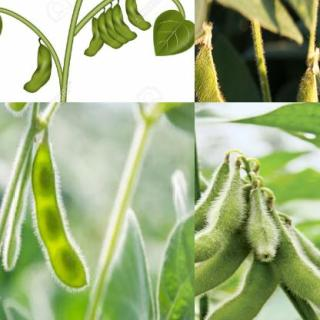soya: (32, 144, 90, 290), (195, 172, 246, 265), (202, 263, 280, 319), (195, 241, 252, 308), (194, 50, 258, 102), (277, 244, 319, 318), (194, 162, 232, 238), (246, 192, 279, 262), (22, 44, 52, 94), (97, 11, 123, 50), (110, 4, 138, 40), (105, 6, 130, 44), (124, 0, 152, 32), (82, 18, 104, 56), (306, 241, 319, 283)
